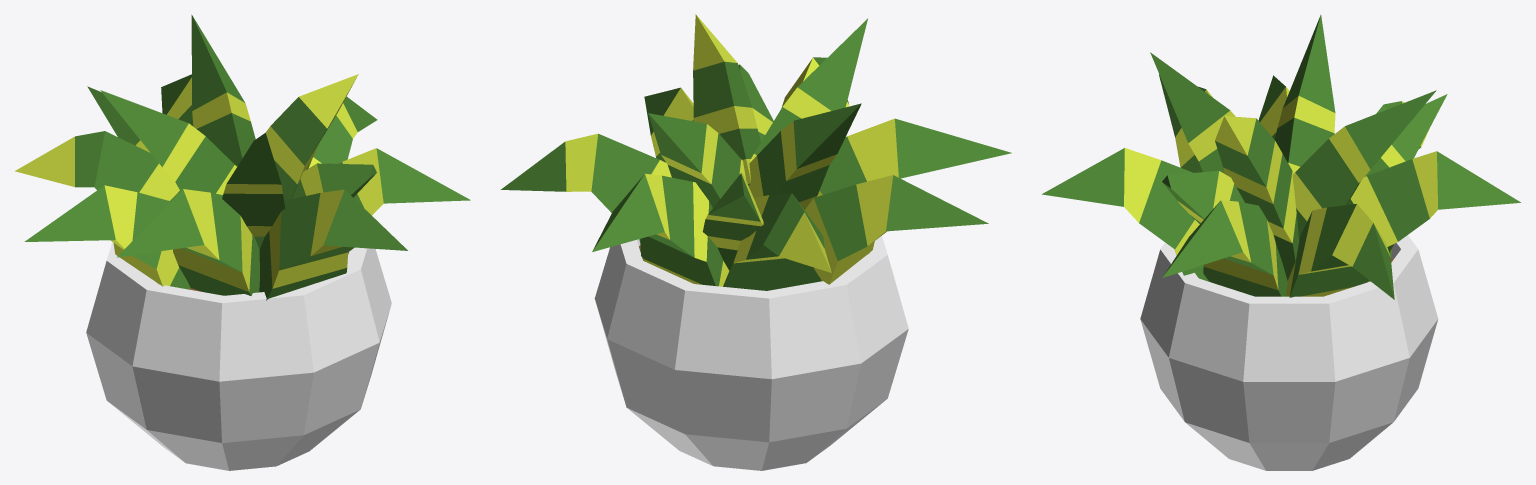
The model's file is furniture_pot-tiny-succulent-b.fbx.
The picture shows the model from 3 angles, left to right: view 1: azimuth 30°, elevation 25°; view 2: azimuth 150°, elevation 25°; view 3: azimuth 270°, elevation 25°; orthographic projection. The views are drawn at different scales.
Parts seen in each view (by area): view 1: furniture_pot_tiny_succulent_b; view 2: furniture_pot_tiny_succulent_b; view 3: furniture_pot_tiny_succulent_b.
Part boxes in pixels (x1,y1,x2,y2): furniture_pot_tiny_succulent_b: (15,14,470,470); furniture_pot_tiny_succulent_b: (501,14,1011,470); furniture_pot_tiny_succulent_b: (1042,15,1520,470).
Bounding box in the file's own units: 198 × 168 × 200.
